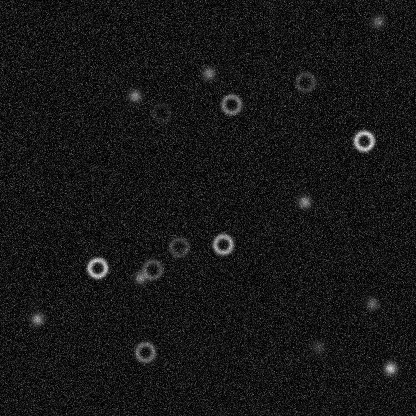Ring: (133, 339, 157, 363), (293, 69, 317, 93), (149, 100, 173, 124), (351, 128, 375, 152), (219, 92, 243, 116), (140, 257, 164, 281), (166, 234, 190, 258), (210, 232, 234, 256), (85, 255, 109, 279)
Spot: (364, 295, 380, 311), (369, 13, 385, 29), (29, 310, 45, 326), (126, 87, 142, 103), (296, 193, 312, 209), (200, 65, 216, 81), (132, 269, 148, 285), (310, 338, 326, 354), (382, 360, 398, 376)
